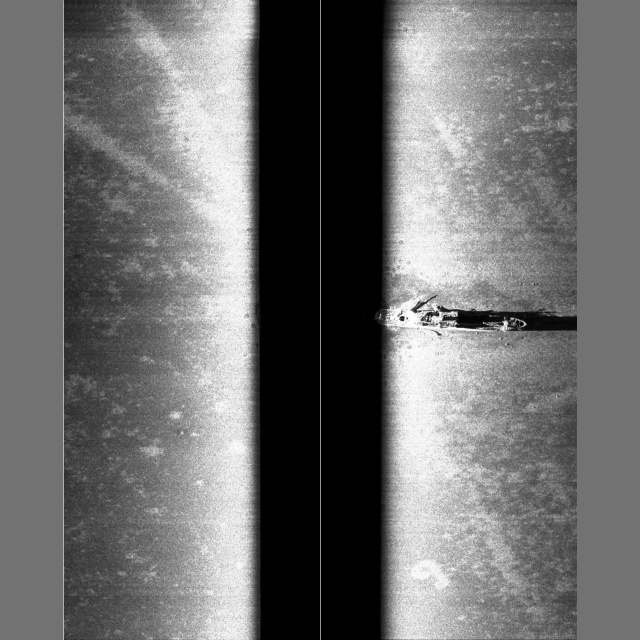Shipwreck: (374, 294, 527, 337)
